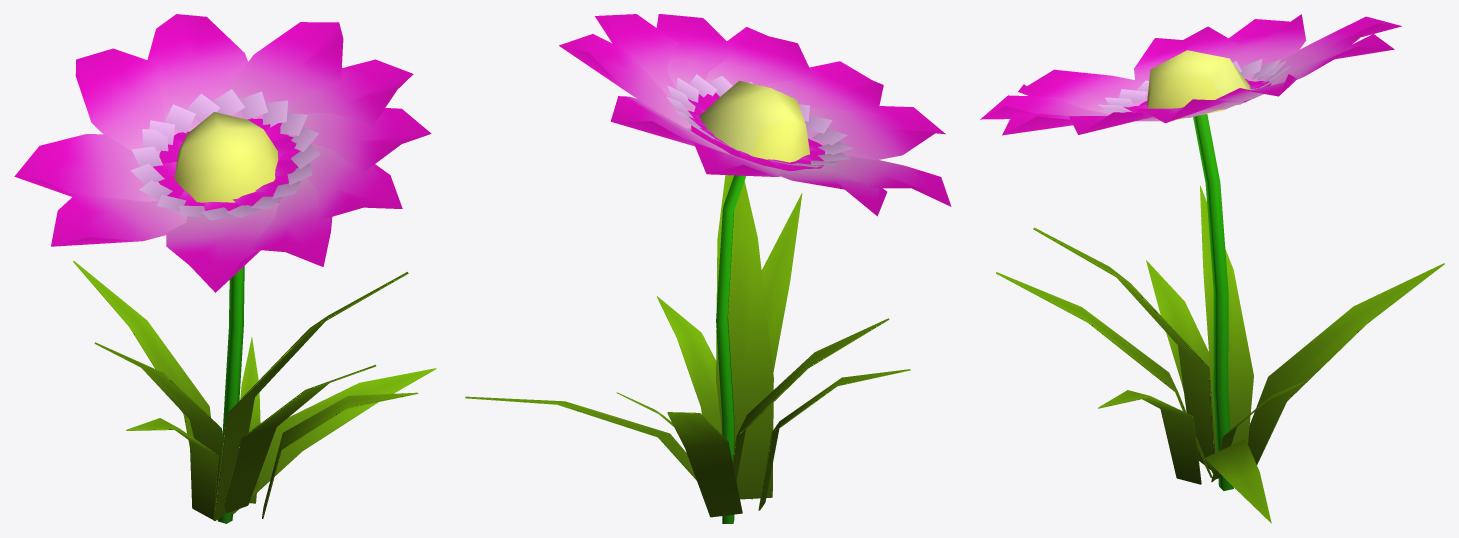
File: orange_Flower.fbx
3 renders of one model, left to right at view 1: azimuth 30°, elevation 25°; view 2: azimuth 150°, elevation 25°; view 3: azimuth 270°, elevation 25°, orthographic. The views are drawn at different scales.
Visible parts, largest first — view 1: orange_Flower; view 2: orange_Flower; view 3: orange_Flower.
Part boxes in pixels (left/top/right/bottom): orange_Flower: left=14, top=14, right=436, bottom=523; orange_Flower: left=465, top=14, right=951, bottom=523; orange_Flower: left=980, top=14, right=1444, bottom=523.
Size of the model in its own units: 0.2593 by 0.261 by 0.2353.
